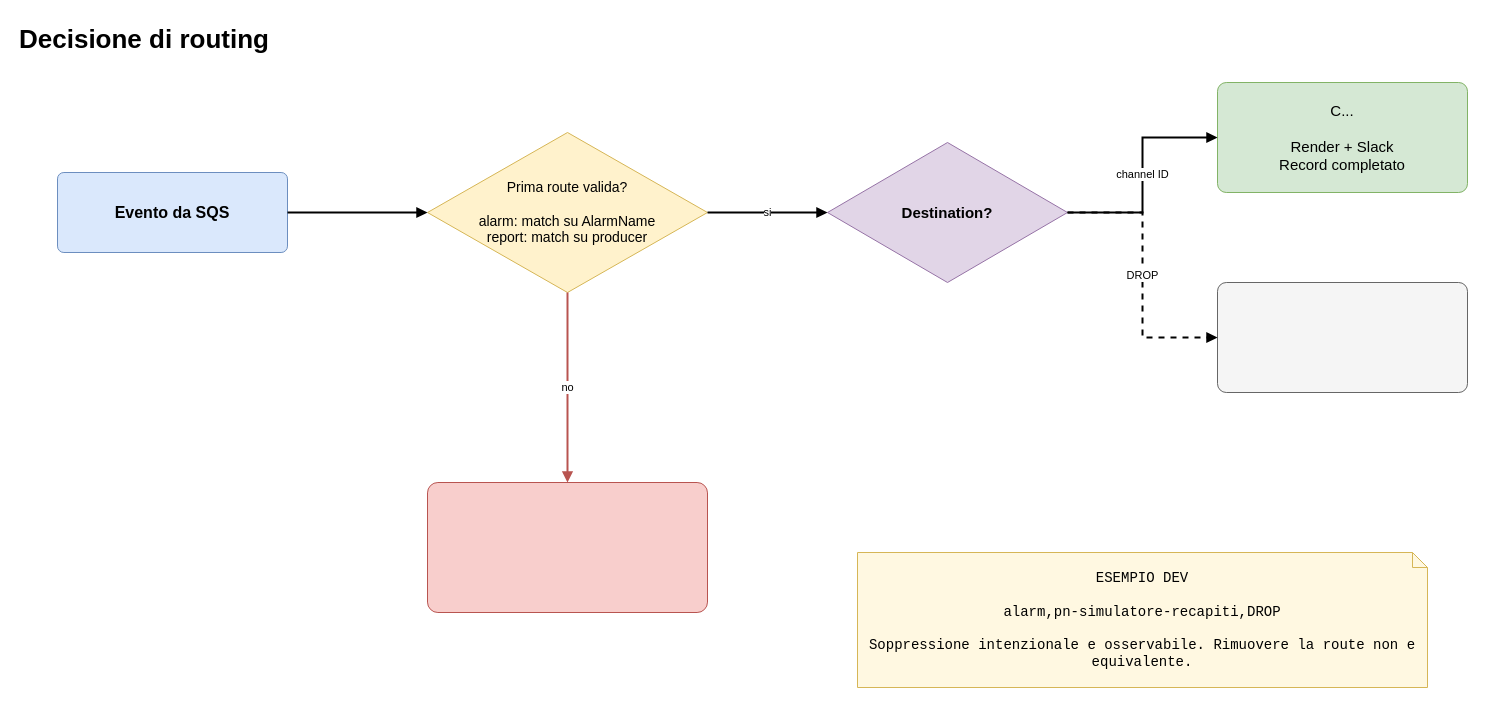
Some shapes in this 1485 by 705 pixel diagram are drawn without their labels. The centre of each missing label's shape, as x and y in pixels:
DROP Log action=DROP Record completato: point (1342, 337)
Nessuna route Errore Lambda Retry SQS DLQ dopo max receive: point (567, 547)
